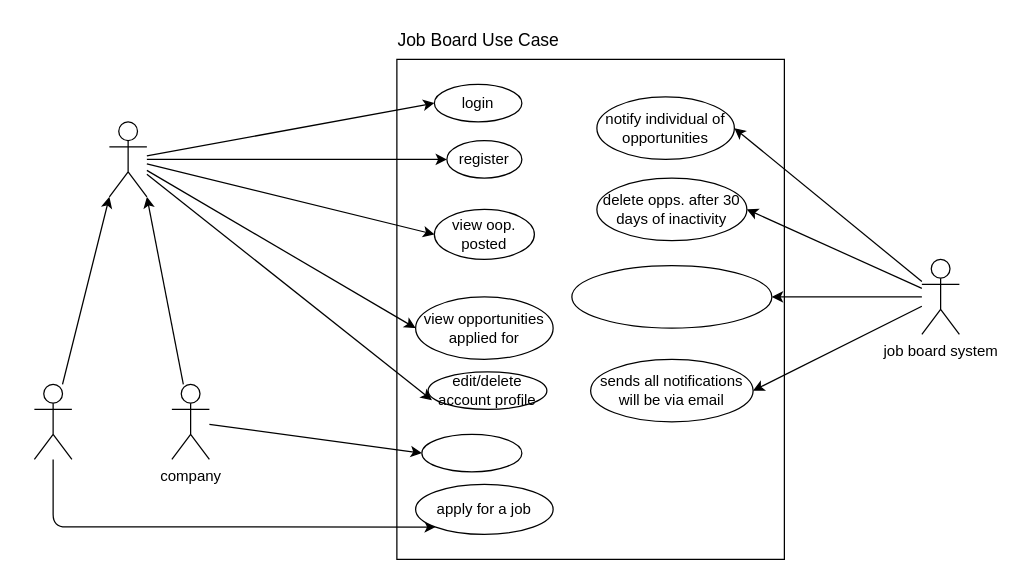
This 1019x581 diagram has some shape labels left out. Each missing label, with the box of its shape:
individual: (33, 383, 72, 459)
notify companies in case of any applications: (571, 264, 772, 328)
post opps.: (421, 433, 522, 472)
User: (108, 121, 147, 197)
